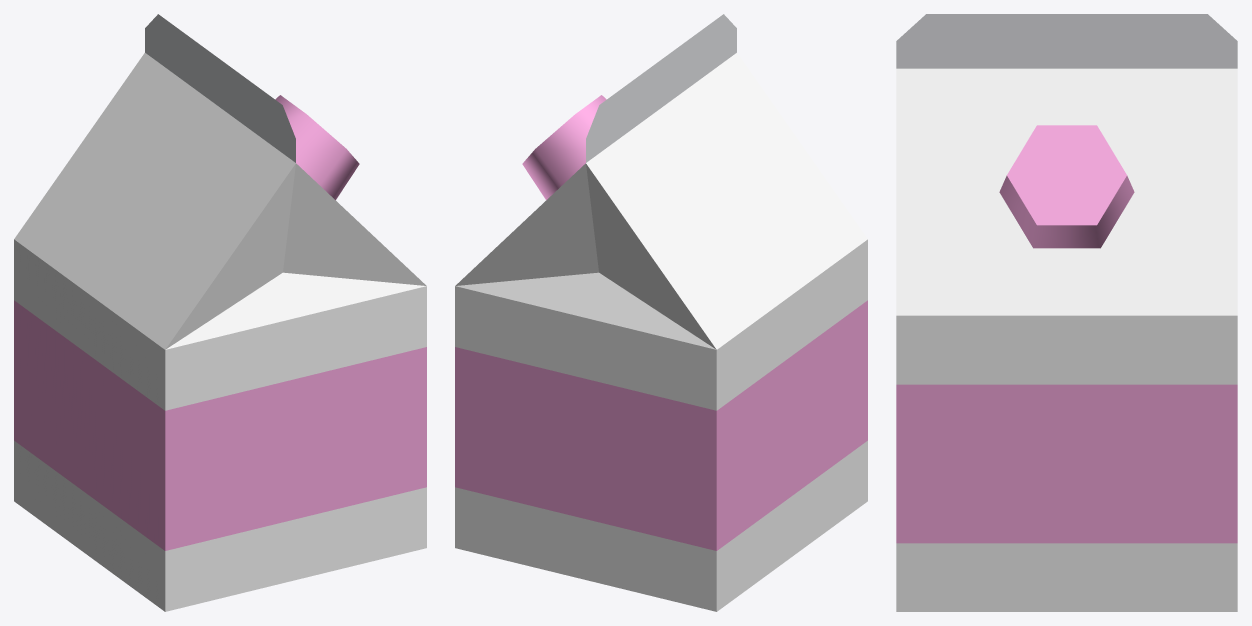
Rendered from Carton Small.glb.
3 renders of one model, left to right at view 1: azimuth 30°, elevation 25°; view 2: azimuth 150°, elevation 25°; view 3: azimuth 270°, elevation 25°, orthographic. The views are drawn at different scales.
Parts seen in each view (by area): view 1: Carton Small; view 2: Carton Small; view 3: Carton Small.
Boxes of the visible parts, <box> form: Carton Small: <box>14,14,426,611</box>; Carton Small: <box>455,14,867,611</box>; Carton Small: <box>896,14,1237,611</box>.
Size of the model in its own units: 0.23 by 0.3905 by 0.23.
